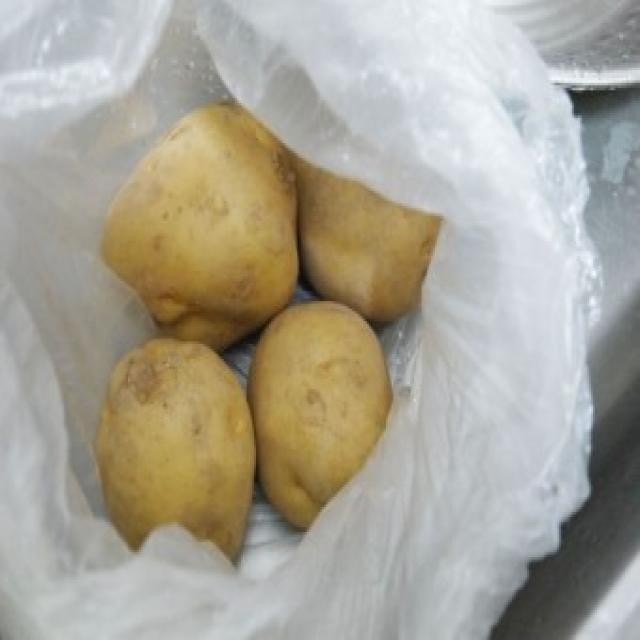potato: (98, 91, 302, 355), (91, 326, 256, 574), (244, 288, 404, 528), (279, 110, 461, 318)
